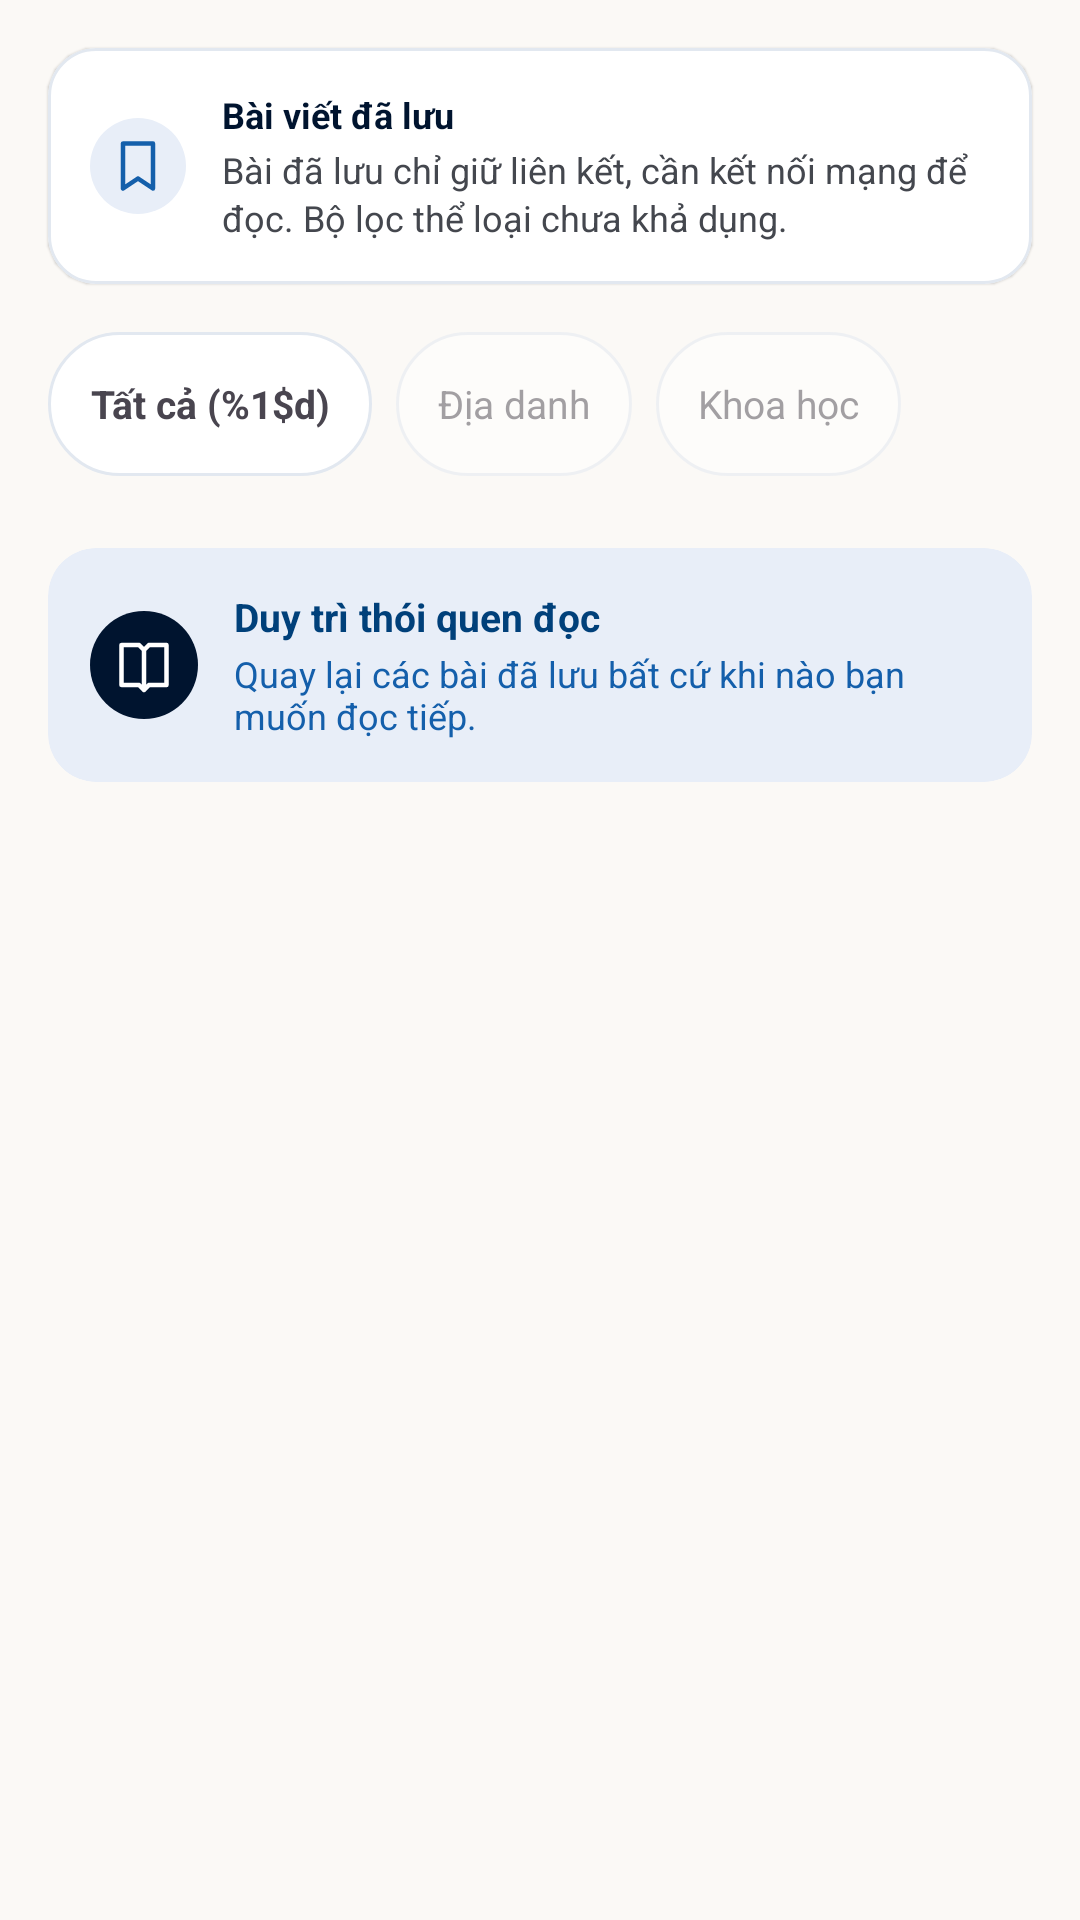

Named icons in this screenshot (1080 x 1920) and their centers, (x,y):
book: (144,665)
bookmark: (138,166)
